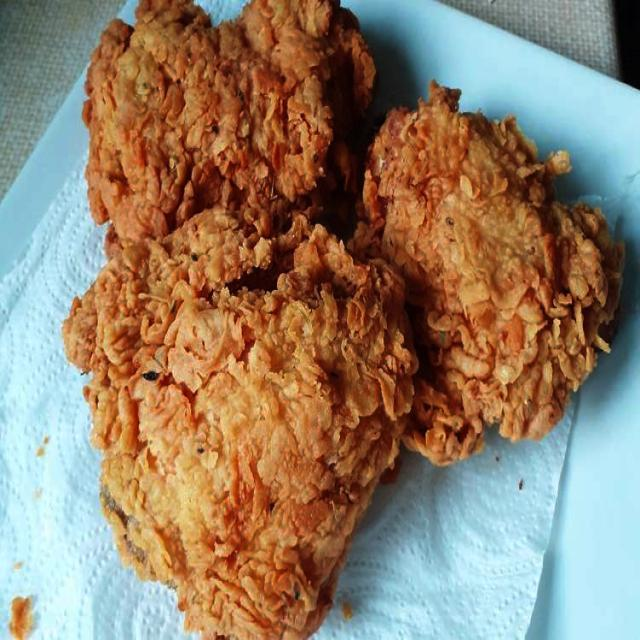fried_chicken: (60, 214, 415, 640), (358, 95, 625, 462), (78, 0, 370, 250)
